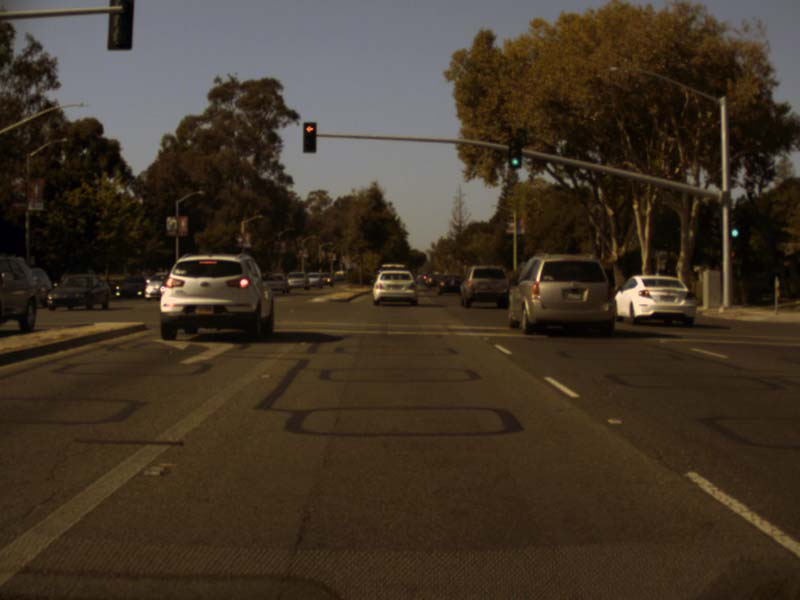Green: (509, 138, 521, 168), (731, 210, 742, 240)
Red: (303, 122, 316, 152)
